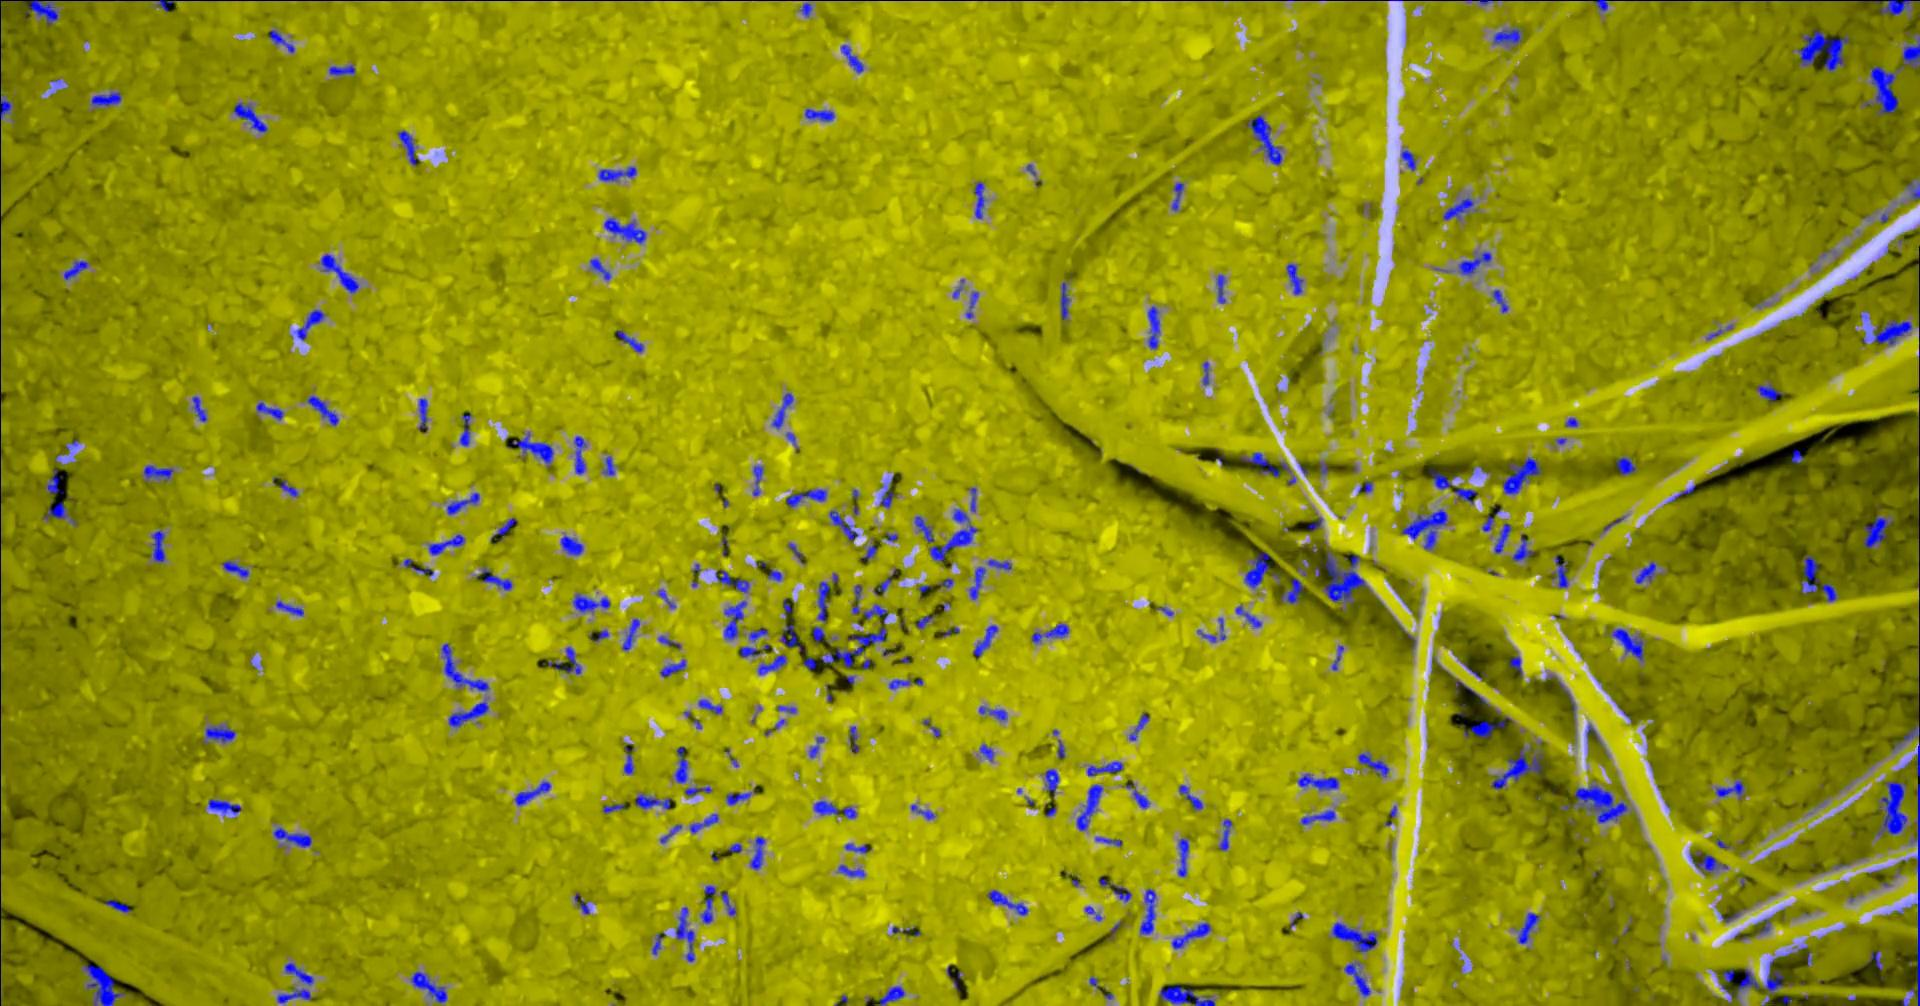ant: (820, 605, 888, 667), (914, 516, 977, 561), (1562, 784, 1627, 822), (441, 643, 489, 690), (1909, 782, 1919, 1005), (1797, 29, 1849, 71), (1491, 746, 1543, 788), (1244, 114, 1283, 164), (1401, 509, 1448, 549), (83, 964, 124, 1005), (1876, 781, 1907, 835), (1801, 555, 1836, 601), (320, 253, 358, 292), (0, 0, 58, 25), (512, 432, 552, 467), (1870, 65, 1898, 116), (1502, 457, 1542, 493), (1331, 921, 1377, 951), (1719, 968, 1760, 1001), (1076, 784, 1102, 829), (410, 970, 447, 1002), (1158, 984, 1214, 1005), (603, 217, 645, 243), (1873, 319, 1912, 345), (1611, 627, 1643, 661), (232, 102, 267, 132), (676, 907, 695, 962), (1454, 680, 1491, 708), (448, 701, 488, 727), (1171, 922, 1210, 948), (1463, 716, 1511, 737), (987, 890, 1027, 915), (1863, 514, 1892, 547), (547, 647, 582, 674), (1239, 452, 1279, 476), (1857, 0, 1919, 15), (307, 395, 338, 426), (1343, 962, 1370, 996), (723, 600, 745, 639), (829, 511, 858, 541), (296, 309, 324, 340), (514, 781, 550, 805), (1244, 553, 1269, 587), (1689, 851, 1727, 873), (1891, 720, 1919, 749), (1458, 251, 1491, 276), (785, 488, 825, 507), (273, 827, 311, 847), (771, 392, 792, 428), (813, 800, 856, 818), (973, 624, 997, 655), (1098, 876, 1130, 901), (446, 492, 479, 514), (715, 569, 748, 592), (1139, 888, 1156, 934), (1031, 622, 1068, 643), (479, 567, 510, 589), (571, 593, 610, 612), (397, 130, 418, 165), (428, 533, 463, 554), (1357, 753, 1388, 776), (1297, 774, 1338, 790), (1197, 617, 1225, 641), (780, 622, 803, 652), (1443, 197, 1473, 218), (1517, 912, 1539, 942), (841, 44, 863, 72), (284, 962, 312, 984), (276, 987, 311, 1005), (490, 517, 516, 541), (1178, 784, 1203, 809), (1280, 577, 1303, 603), (1765, 959, 1783, 993), (202, 725, 235, 743), (635, 793, 670, 809), (1236, 605, 1261, 627), (700, 885, 715, 923), (268, 30, 295, 52), (616, 329, 643, 351), (1512, 533, 1534, 560), (757, 654, 785, 674), (1128, 713, 1148, 741), (690, 813, 717, 833), (1901, 37, 1919, 69), (1550, 555, 1568, 587), (621, 619, 639, 650), (969, 567, 985, 600), (403, 558, 433, 575), (0, 71, 11, 118), (598, 166, 636, 180), (1147, 306, 1159, 348), (207, 798, 241, 813), (1300, 809, 1335, 824), (1429, 469, 1454, 489), (817, 580, 829, 621), (1756, 384, 1783, 403), (877, 986, 904, 1005), (749, 836, 764, 869), (573, 434, 585, 474), (255, 401, 283, 419), (1087, 761, 1123, 775), (973, 180, 985, 218), (272, 476, 297, 495), (43, 500, 69, 520), (143, 464, 173, 480), (1495, 523, 1511, 553), (674, 746, 687, 782), (589, 258, 611, 279), (1286, 263, 1302, 293), (560, 535, 583, 555), (1493, 28, 1521, 44), (1716, 780, 1743, 796), (63, 260, 88, 279), (46, 469, 63, 494), (1177, 838, 1189, 876), (276, 600, 303, 615), (978, 705, 1006, 720), (458, 413, 471, 446), (222, 560, 248, 577), (659, 659, 684, 676), (1636, 561, 1655, 583), (151, 530, 164, 561), (1453, 486, 1477, 503), (888, 677, 922, 688), (91, 91, 119, 105), (804, 108, 834, 121), (1492, 290, 1509, 312), (861, 539, 877, 561), (720, 892, 737, 915), (1044, 768, 1058, 795), (1171, 182, 1183, 211), (910, 804, 935, 819), (872, 575, 891, 594), (657, 589, 676, 608), (1615, 456, 1636, 474), (660, 824, 681, 842), (752, 465, 763, 495), (1219, 819, 1230, 850), (1131, 789, 1149, 808), (103, 899, 130, 912), (192, 396, 206, 420), (698, 699, 723, 713), (1399, 149, 1415, 170), (574, 892, 589, 913), (1060, 282, 1069, 319), (838, 864, 863, 876), (328, 64, 356, 75), (1867, 950, 1883, 969), (657, 635, 681, 648), (1331, 645, 1343, 669), (965, 291, 977, 318), (418, 398, 427, 432), (809, 735, 823, 757), (851, 584, 861, 614), (879, 486, 893, 507), (891, 926, 919, 936), (726, 793, 750, 804), (1509, 655, 1521, 677), (651, 932, 664, 954), (848, 725, 858, 752), (623, 743, 632, 774), (1095, 836, 1121, 846), (916, 614, 935, 627), (748, 627, 767, 641), (1217, 274, 1225, 304), (1905, 182, 1919, 199), (987, 559, 1011, 569), (602, 456, 615, 475), (979, 744, 993, 761), (1756, 917, 1770, 934), (684, 786, 710, 795), (844, 843, 870, 852), (952, 508, 968, 522), (811, 626, 825, 641), (1481, 514, 1493, 531), (740, 647, 761, 657), (803, 655, 817, 669), (1790, 448, 1803, 464), (602, 803, 623, 812), (157, 0, 174, 11), (969, 486, 977, 511), (799, 3, 811, 17), (1592, 0, 1608, 11), (767, 569, 781, 580), (1357, 481, 1371, 492), (1203, 361, 1208, 384), (1917, 263, 1919, 312)
